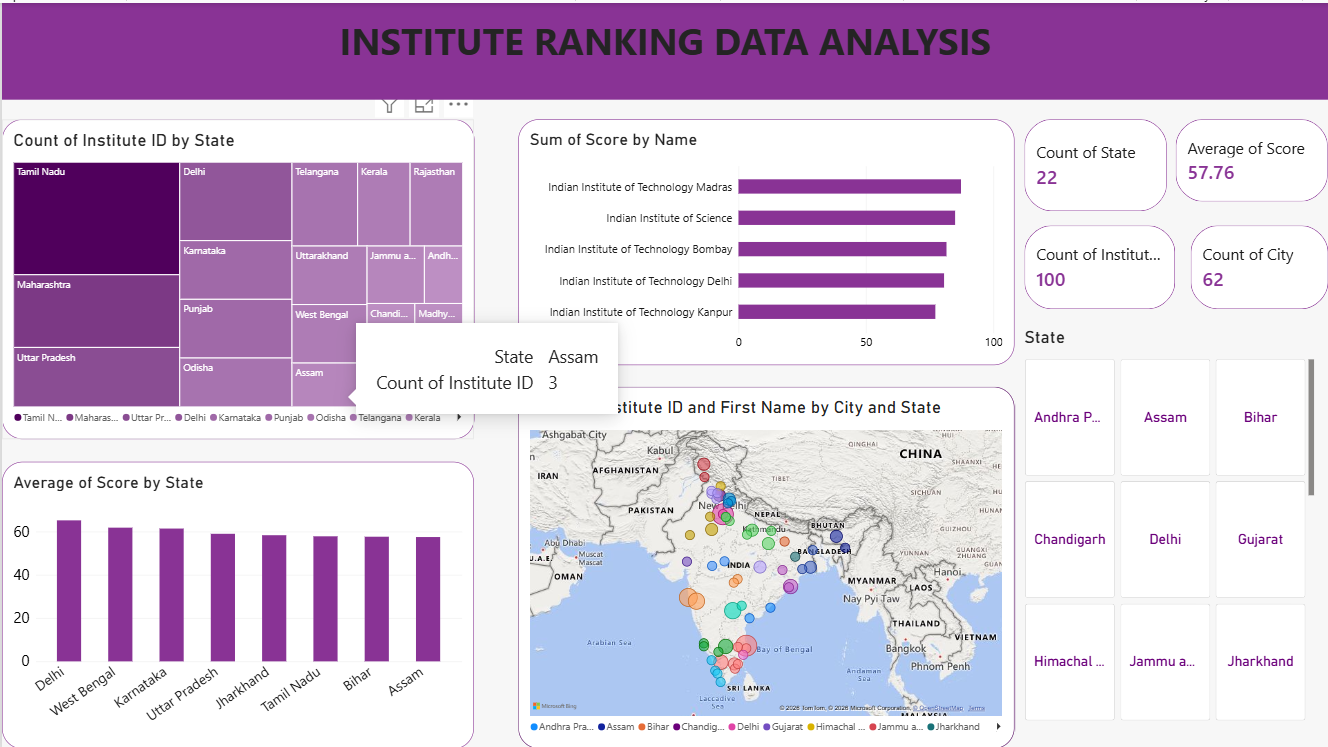

This screenshot's page, from the dashboard's own definition file:
{"tool":"powerbi","page":{"name":"Page 1","canvas":[1920,1080],"ordinal":0},"visuals":[{"type":"cardVisual","fields":{"Data":["Count(Institute_Rankings (1).State)"]},"box":[1480.3,168.3,206.3,133.9],"z":0},{"type":"cardVisual","fields":{"Data":["Count(Institute_Rankings (1).Institute ID)"]},"box":[1480.3,322.1,219,121.2],"z":1000},{"type":"cardVisual","fields":{"Data":["Avg(Institute_Rankings (1).Score)"]},"box":[1699.3,168.3,220.8,119.4],"z":2000},{"type":"treemap","fields":{"Group":["Institute_Rankings (1).State"],"Values":["CountNonNull(Institute_Rankings (1).Institute ID)"]},"box":[0,168.3,684.1,463.3],"z":3000},{"type":"barChart","fields":{"Y":["Sum(Institute_Rankings (1).Score)"],"Category":["Institute_Rankings (1).Name"]},"box":[748,168,718,356],"z":4000},{"type":"clusteredColumnChart","fields":{"Y":["Avg(Institute_Rankings (1).Score)"],"Category":["Institute_Rankings (1).State"]},"box":[0,664.8,683.4,415.8],"z":5000},{"type":"map","fields":{"Category":["Institute_Rankings (1).City"],"Series":["Institute_Rankings (1).State"],"Size":["CountNonNull(Institute_Rankings (1).Institute ID)"]},"box":[748,556,718,524],"z":6000},{"type":"cardVisual","fields":{"Data":["Count(Institute_Rankings (1).City)"]},"box":[1721,322.1,199.1,121.2],"z":7000},{"type":"textbox","box":[0,0,1920.4,140],"z":8000},{"type":"advancedSlicerVisual","fields":{"Values":["Institute_Rankings (1).State"]},"box":[1480.3,468.7,419.8,571.9],"z":8001}]}

Visuals, with their boxes in screenshot pixels (x1, y1, x2, y2), scaled from the page's 1920x1080 canvas onto the 1328x747 screenshot:
cardVisual - Count(Institute_Rankings (1).State): locate(1024, 116, 1167, 209)
cardVisual - Count(Institute_Rankings (1).Institute ID): locate(1024, 223, 1175, 307)
cardVisual - Avg(Institute_Rankings (1).Score): locate(1175, 116, 1327, 199)
treemap - Institute_Rankings (1).State x CountNonNull(Institute_Rankings (1).Institute ID): locate(0, 116, 473, 437)
barChart - Sum(Institute_Rankings (1).Score) x Institute_Rankings (1).Name: locate(517, 116, 1014, 362)
clusteredColumnChart - Avg(Institute_Rankings (1).Score) x Institute_Rankings (1).State: locate(0, 460, 473, 746)
map - Institute_Rankings (1).City x Institute_Rankings (1).State: locate(517, 385, 1014, 746)
cardVisual - Count(Institute_Rankings (1).City): locate(1190, 223, 1327, 307)
textbox: locate(0, 0, 1327, 97)
advancedSlicerVisual - Institute_Rankings (1).State: locate(1024, 324, 1314, 720)
